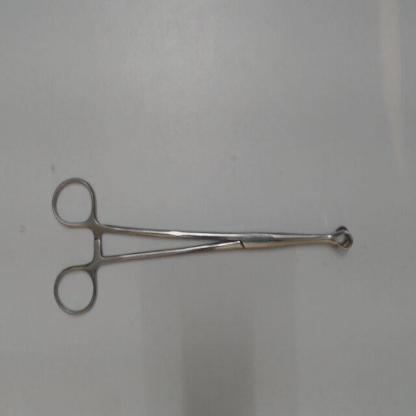8 Babcock Tissue Forceps: (49, 168, 356, 322)
